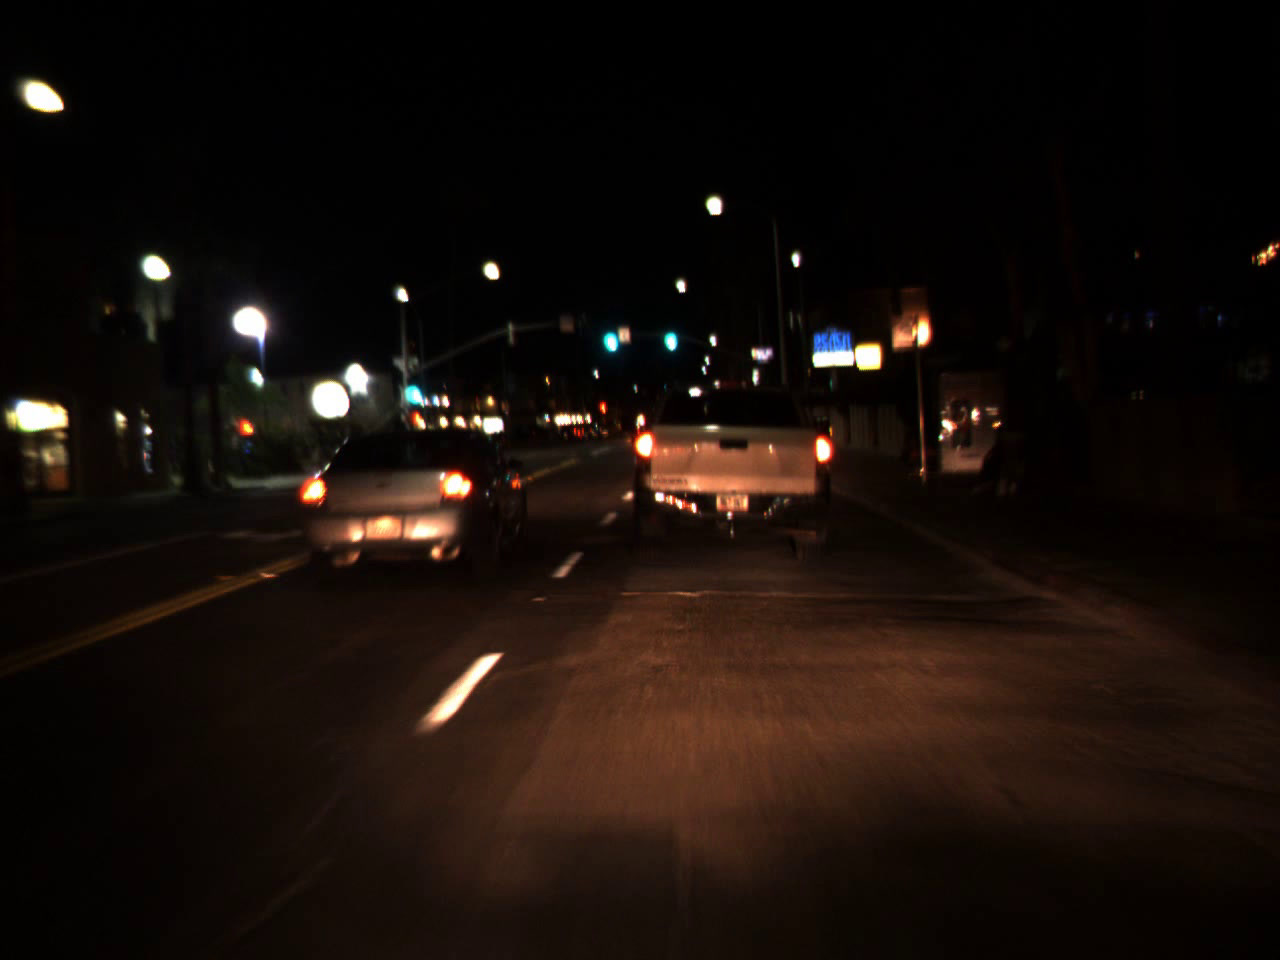go: (396, 360, 426, 414), (598, 308, 619, 359), (661, 313, 679, 355)
